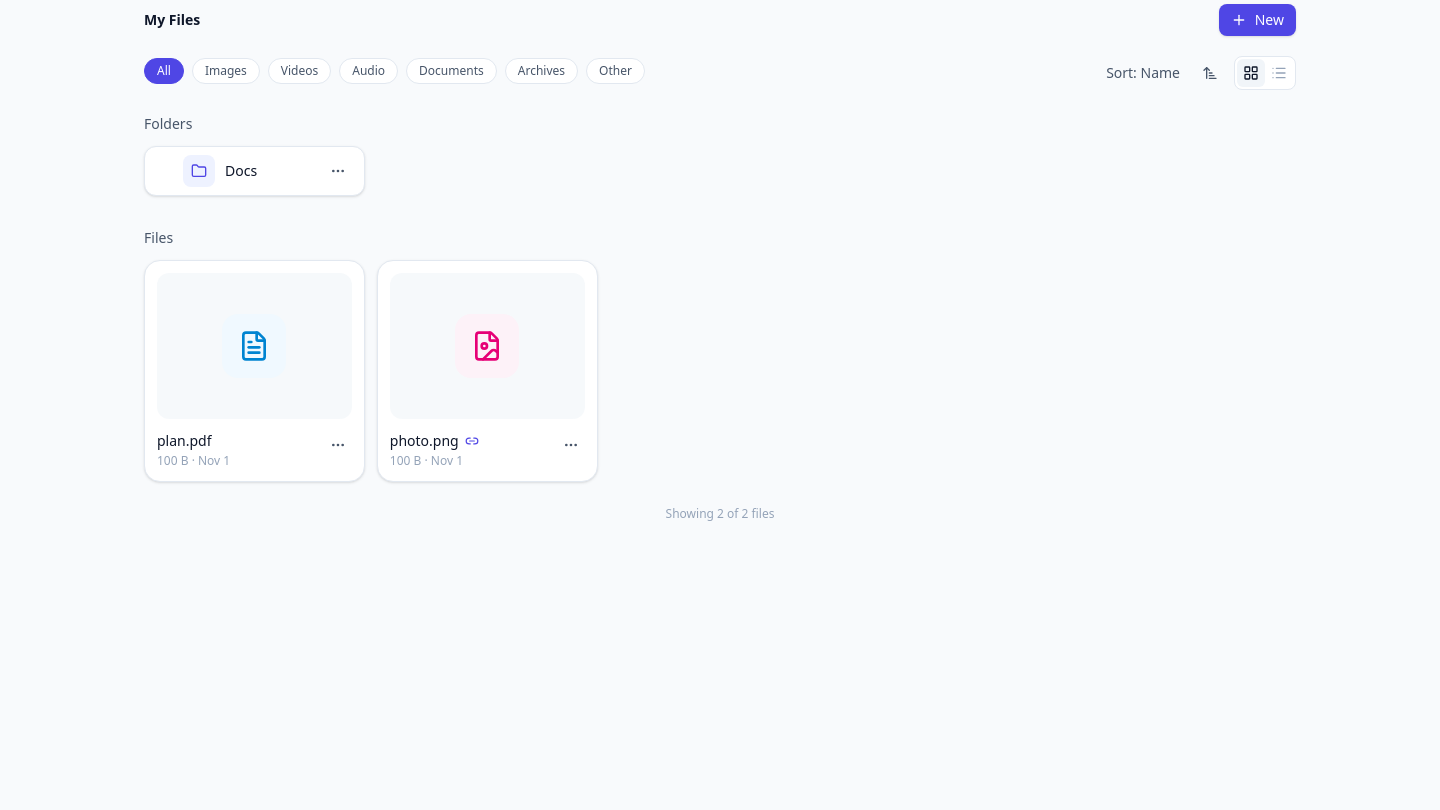
Test case: share dialog › shows the error and stays on the form when creating fails
The width and height of the screenshot is (1440, 810).
Expected: the button "plan.pdf" is shown, [157,431,212,451]
Click the button named "Actions for plan.pdf" at [338, 445], box [324,431,352,459]
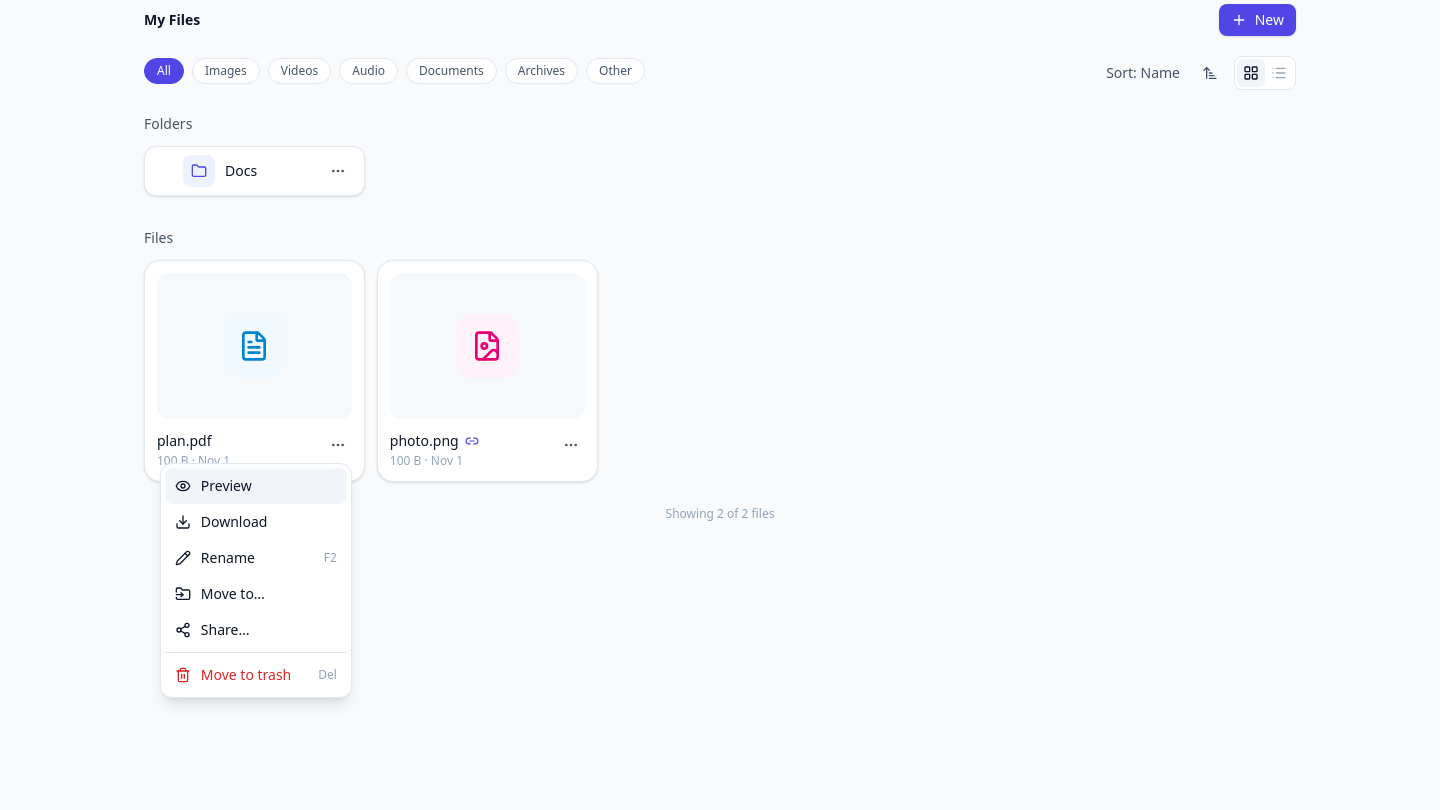
Click the menu item "Share…" at [256, 630], box [165,612,347,648]
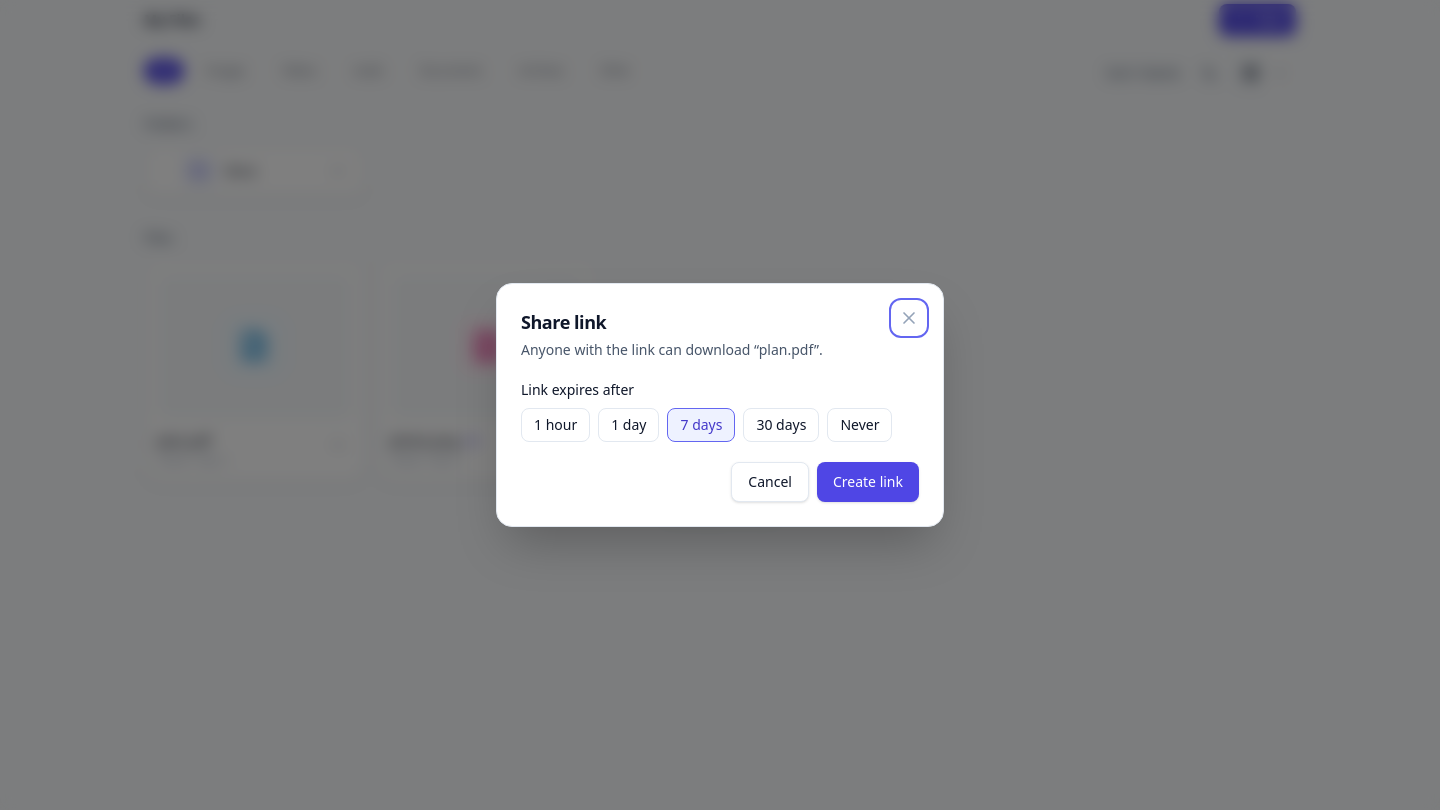
Click the button "Create link" at [868, 482], box [817,462,919,502]
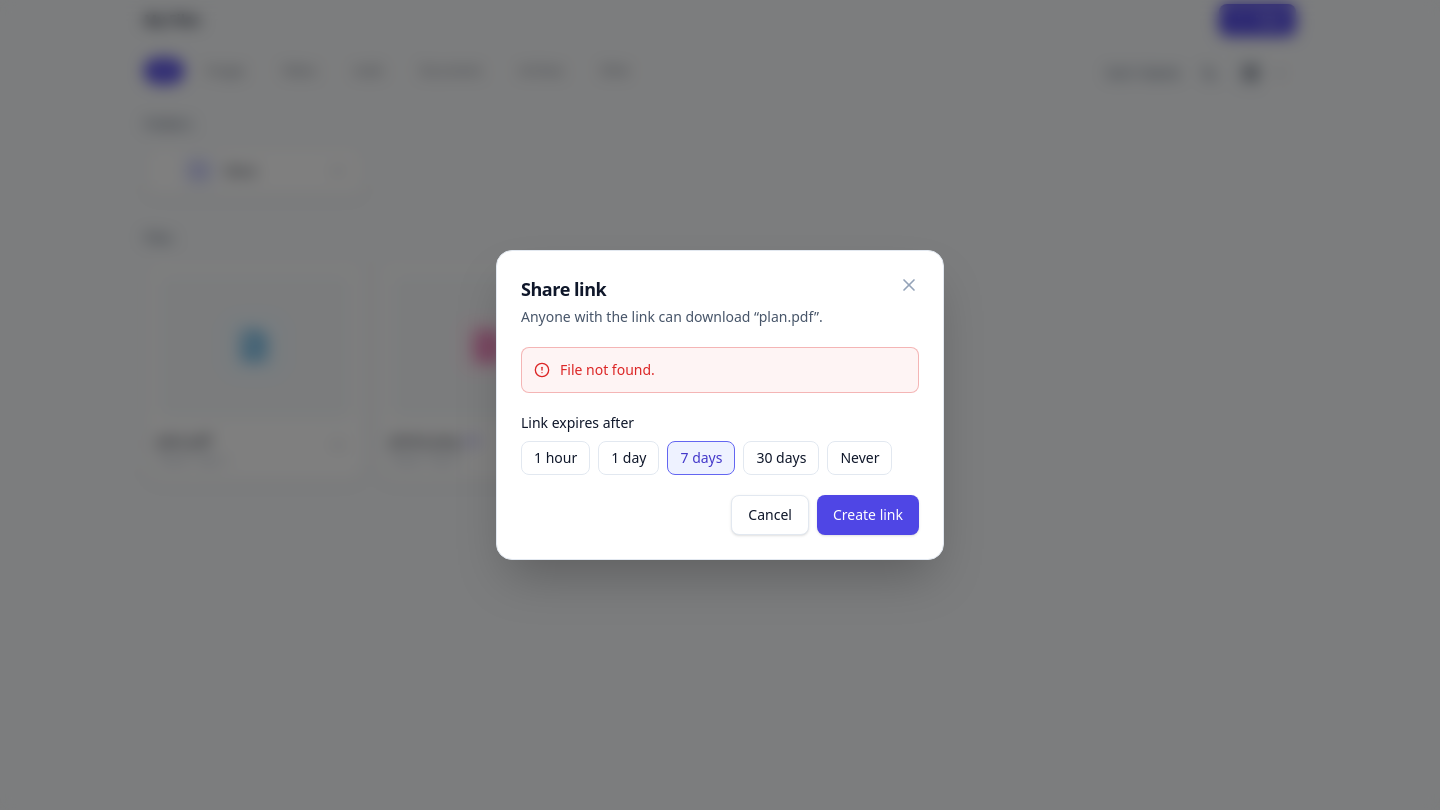
Expected: the button "Create link" is shown, [817,495,919,535]
Expected: the text "File not found." is shown, [560,360,655,380]
